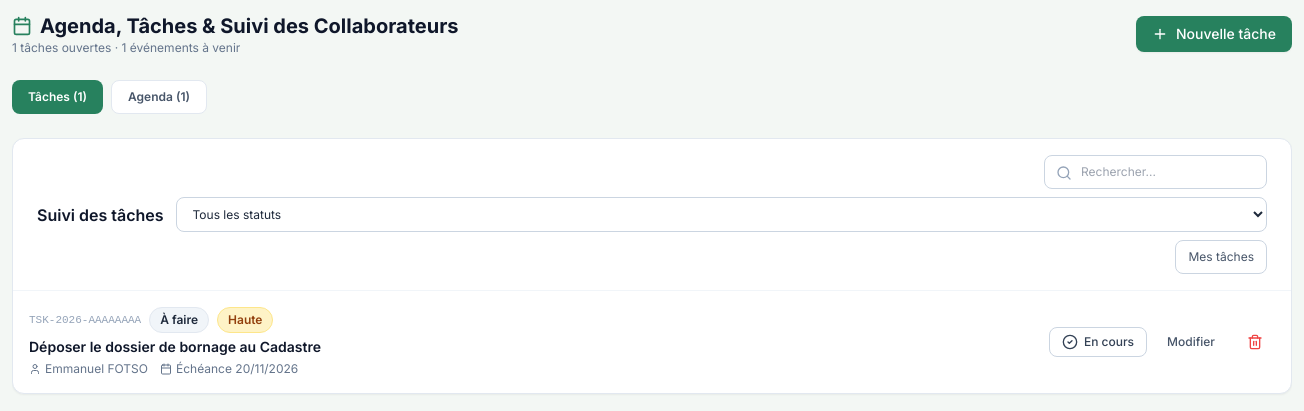
Test: TasksPage en mode connecté › charge les tâches et l agenda depuis Supabase
Check: the text "TSK-2026-AAAAAAAA" is shown, box top-left (29, 312), bottom-right (141, 328)
Check: the text "Déposer le dossier de bornage au Cadastre" is shown, box top-left (29, 338), bottom-right (321, 355)
Click the button "Agenda (1)" at (159, 97), box top-left (111, 80), bottom-right (207, 114)
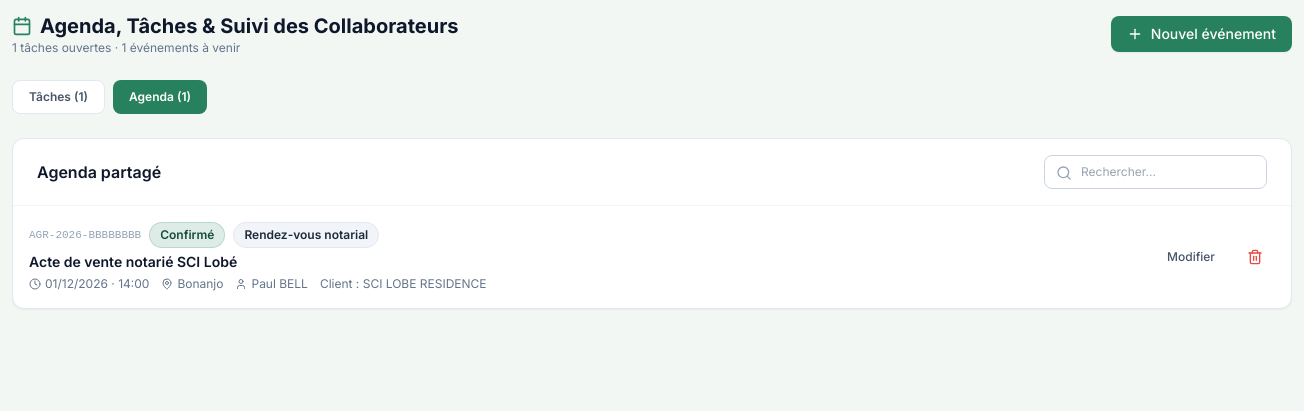
Check: the text "AGR-2026-BBBBBBBB" is shown, box top-left (29, 227), bottom-right (141, 243)
Check: the text "Acte de vente notarié SCI Lobé" is shown, box top-left (29, 253), bottom-right (237, 270)
Check: the text "Client : SCI LOBE RESIDENCE" is shown, box top-left (320, 276), bottom-right (487, 292)
